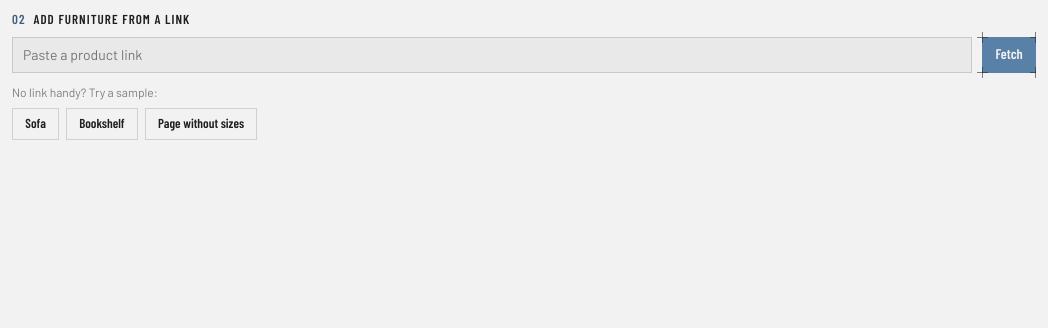
Scenario: AddFurnitureSection › relabels and re-seeds the inputs in centimetres when units change during preview
Click the button "Sofa": coordinates (36, 124) [12,108,59,140]
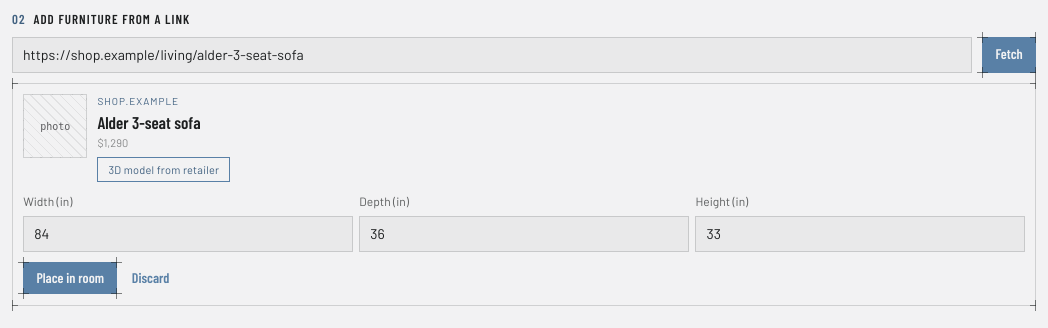
Replace the text in the number field labelled "Width (in)" with "0": coordinates (188, 234) [23,216,352,252]
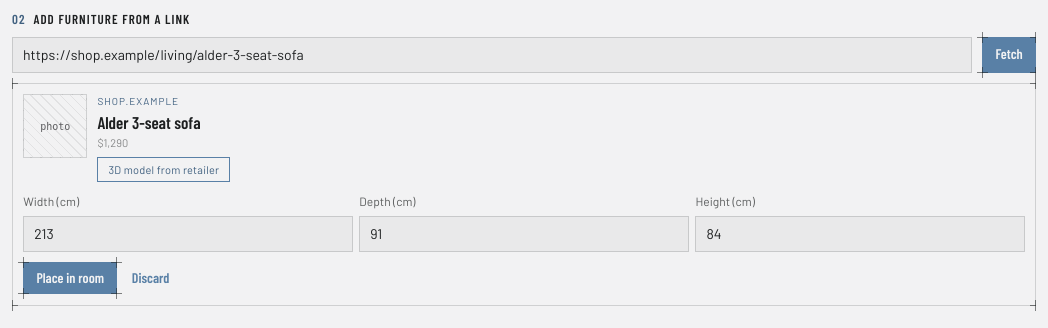
Now the number field labelled "Width (cm)" holds "213", box [23,216,352,252]
Now the number field labelled "Depth (cm)" holds "91", box [359,216,689,252]
Now the number field labelled "Height (cm)" holds "84", box [696,216,1025,252]
